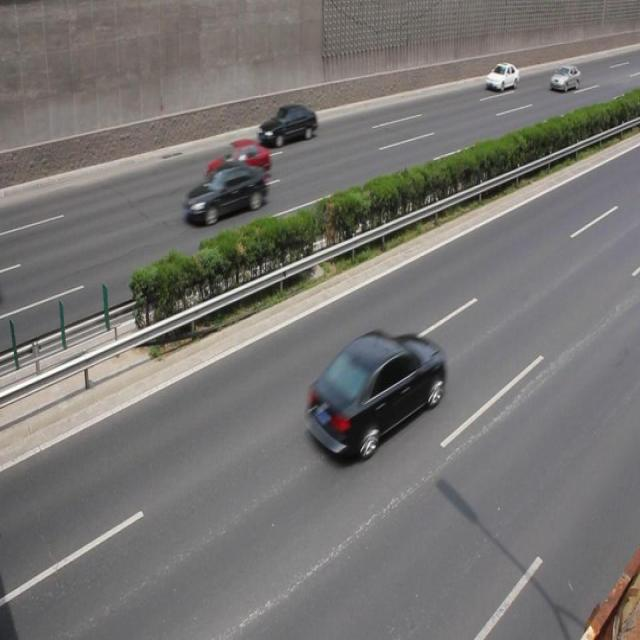car: (303, 331, 443, 464), (182, 160, 267, 224), (205, 139, 271, 192), (258, 102, 318, 148), (485, 61, 518, 92), (549, 65, 579, 91)
